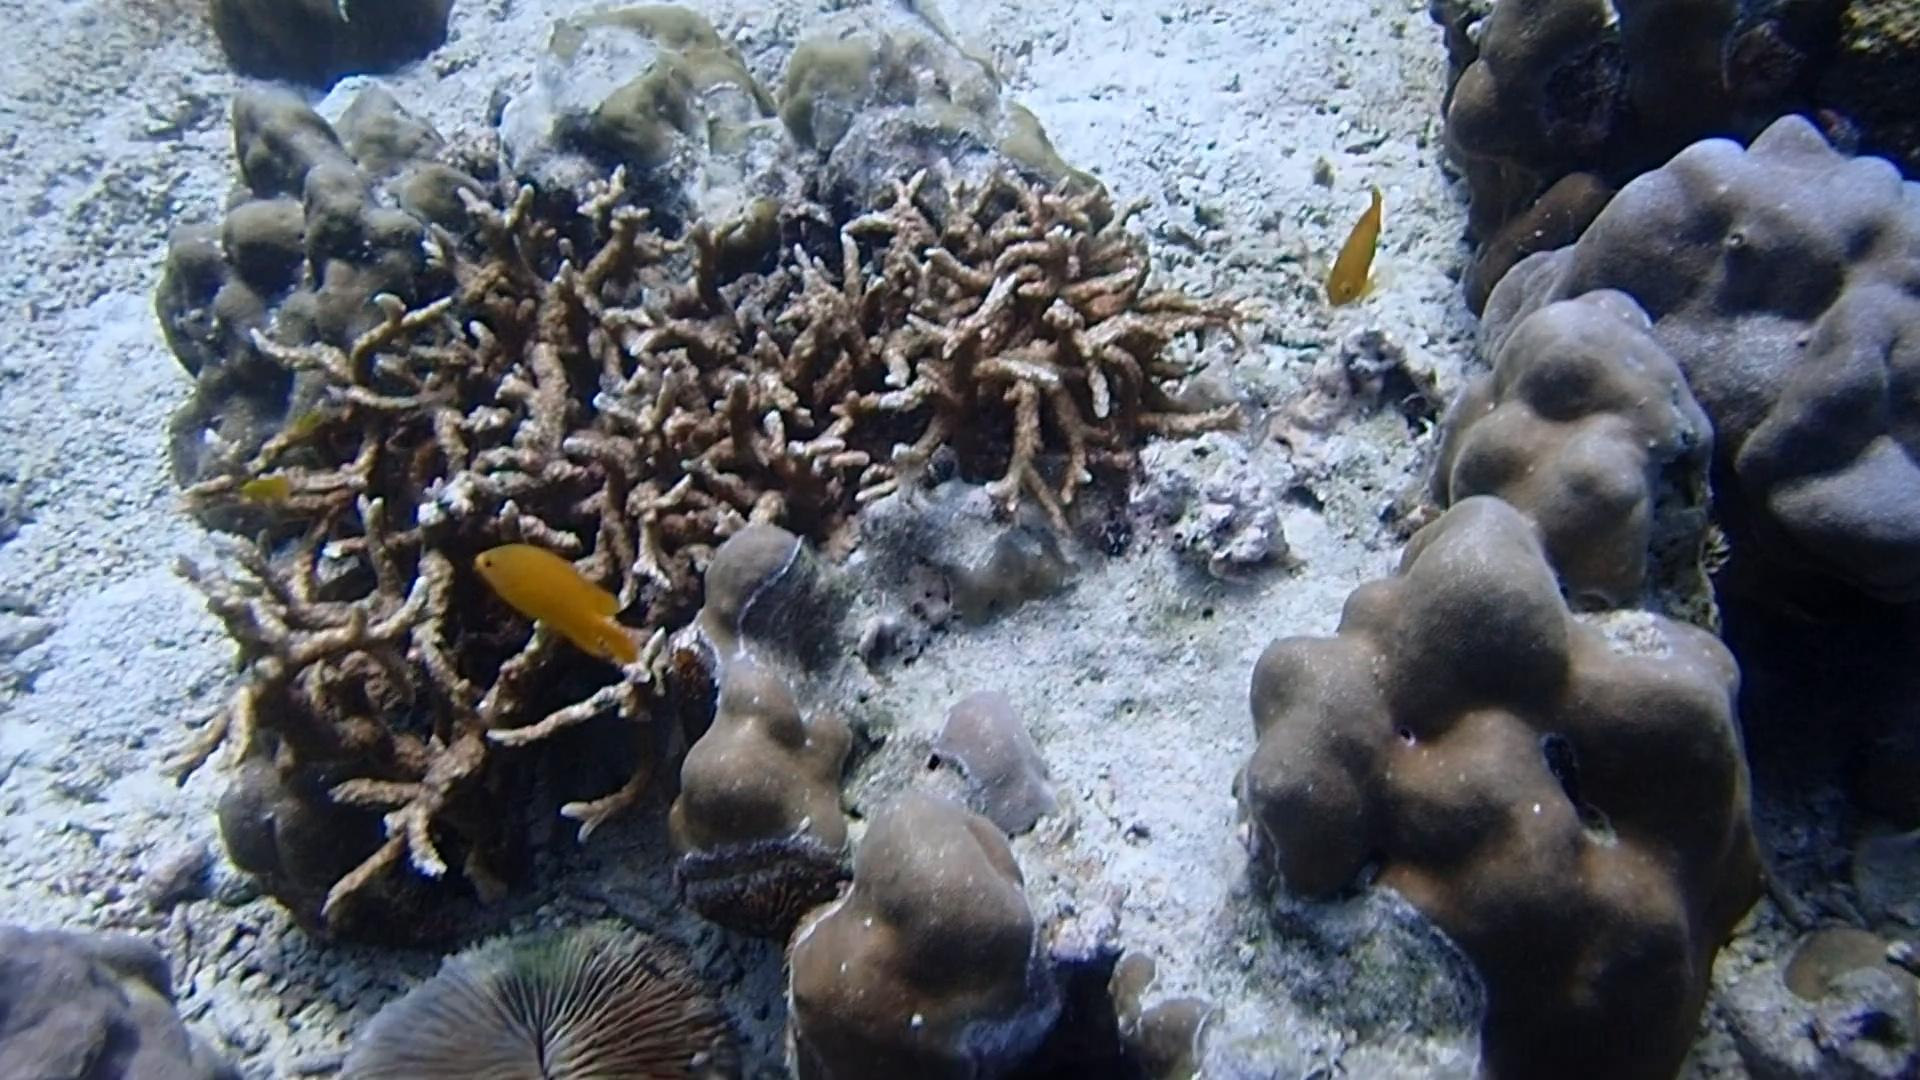Yellow Fish: (467, 537, 659, 671), (1315, 187, 1399, 319), (233, 471, 291, 508)
